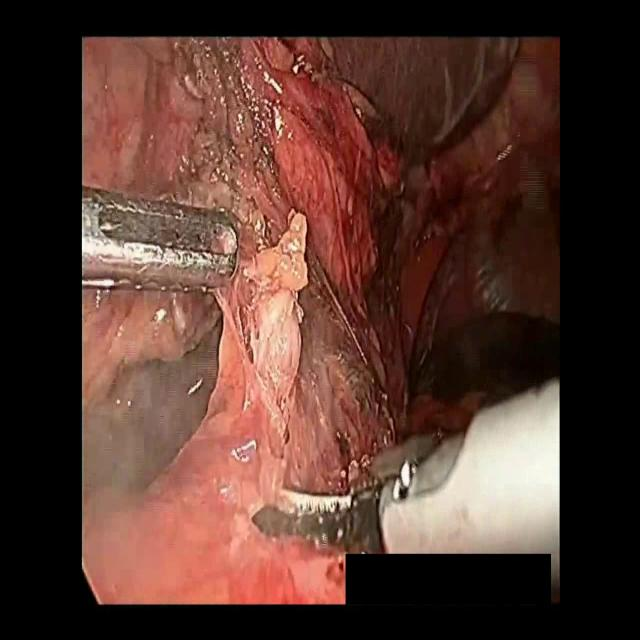surgical-area: (82, 37, 560, 606)
surgical-tool: (378, 377, 560, 606), (82, 184, 240, 290)
